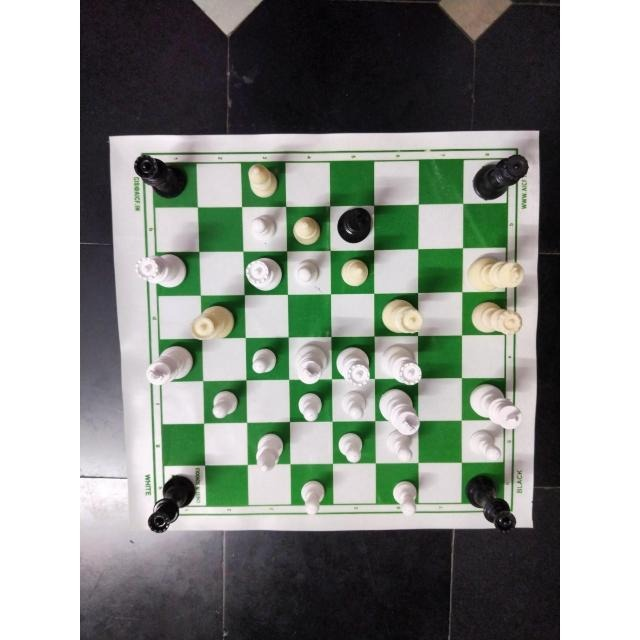black-king: (333, 205, 375, 247)
black-queen: (466, 472, 523, 532), (144, 470, 197, 534), (469, 151, 529, 205), (131, 152, 189, 202)
white-bishop: (249, 428, 284, 476), (242, 162, 282, 202), (287, 209, 325, 250), (335, 256, 375, 292)
white-king: (465, 380, 526, 432), (464, 250, 527, 294), (376, 387, 428, 433), (143, 344, 198, 387), (288, 340, 332, 388)
white-pawn: (390, 478, 424, 524), (462, 422, 501, 461), (294, 478, 326, 520), (207, 385, 241, 422), (334, 429, 367, 465), (247, 345, 281, 379), (289, 257, 322, 292), (383, 428, 415, 464), (245, 211, 278, 245), (337, 387, 369, 422), (293, 389, 322, 423)
white-queen: (464, 297, 525, 338), (132, 251, 189, 291), (376, 295, 426, 337), (380, 342, 424, 387), (331, 341, 373, 387), (189, 303, 235, 345), (243, 250, 285, 294)
